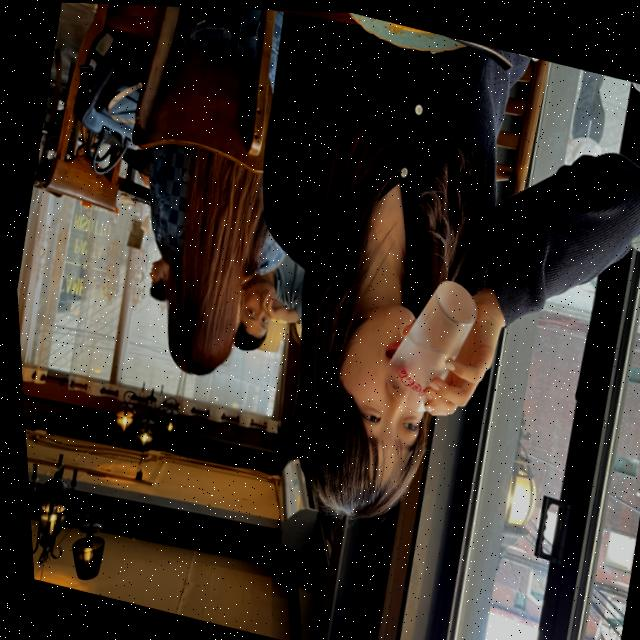eating-person: (157, 5, 640, 591)
